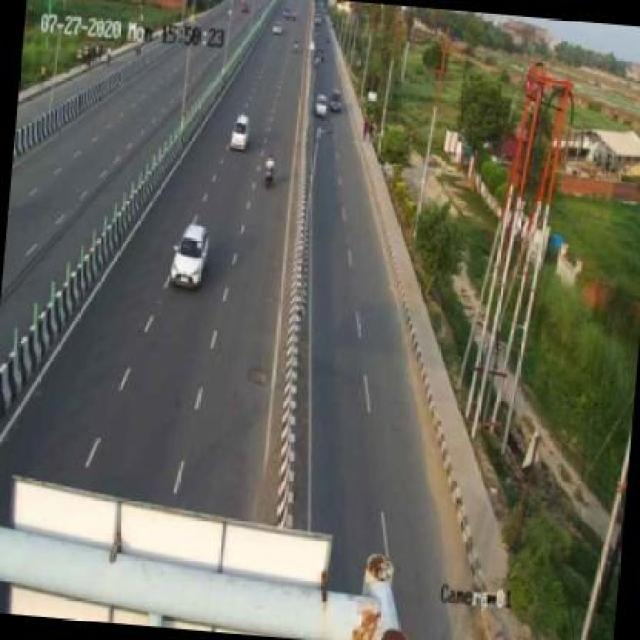car: (165, 218, 217, 294), (228, 112, 262, 152), (314, 89, 332, 120)
